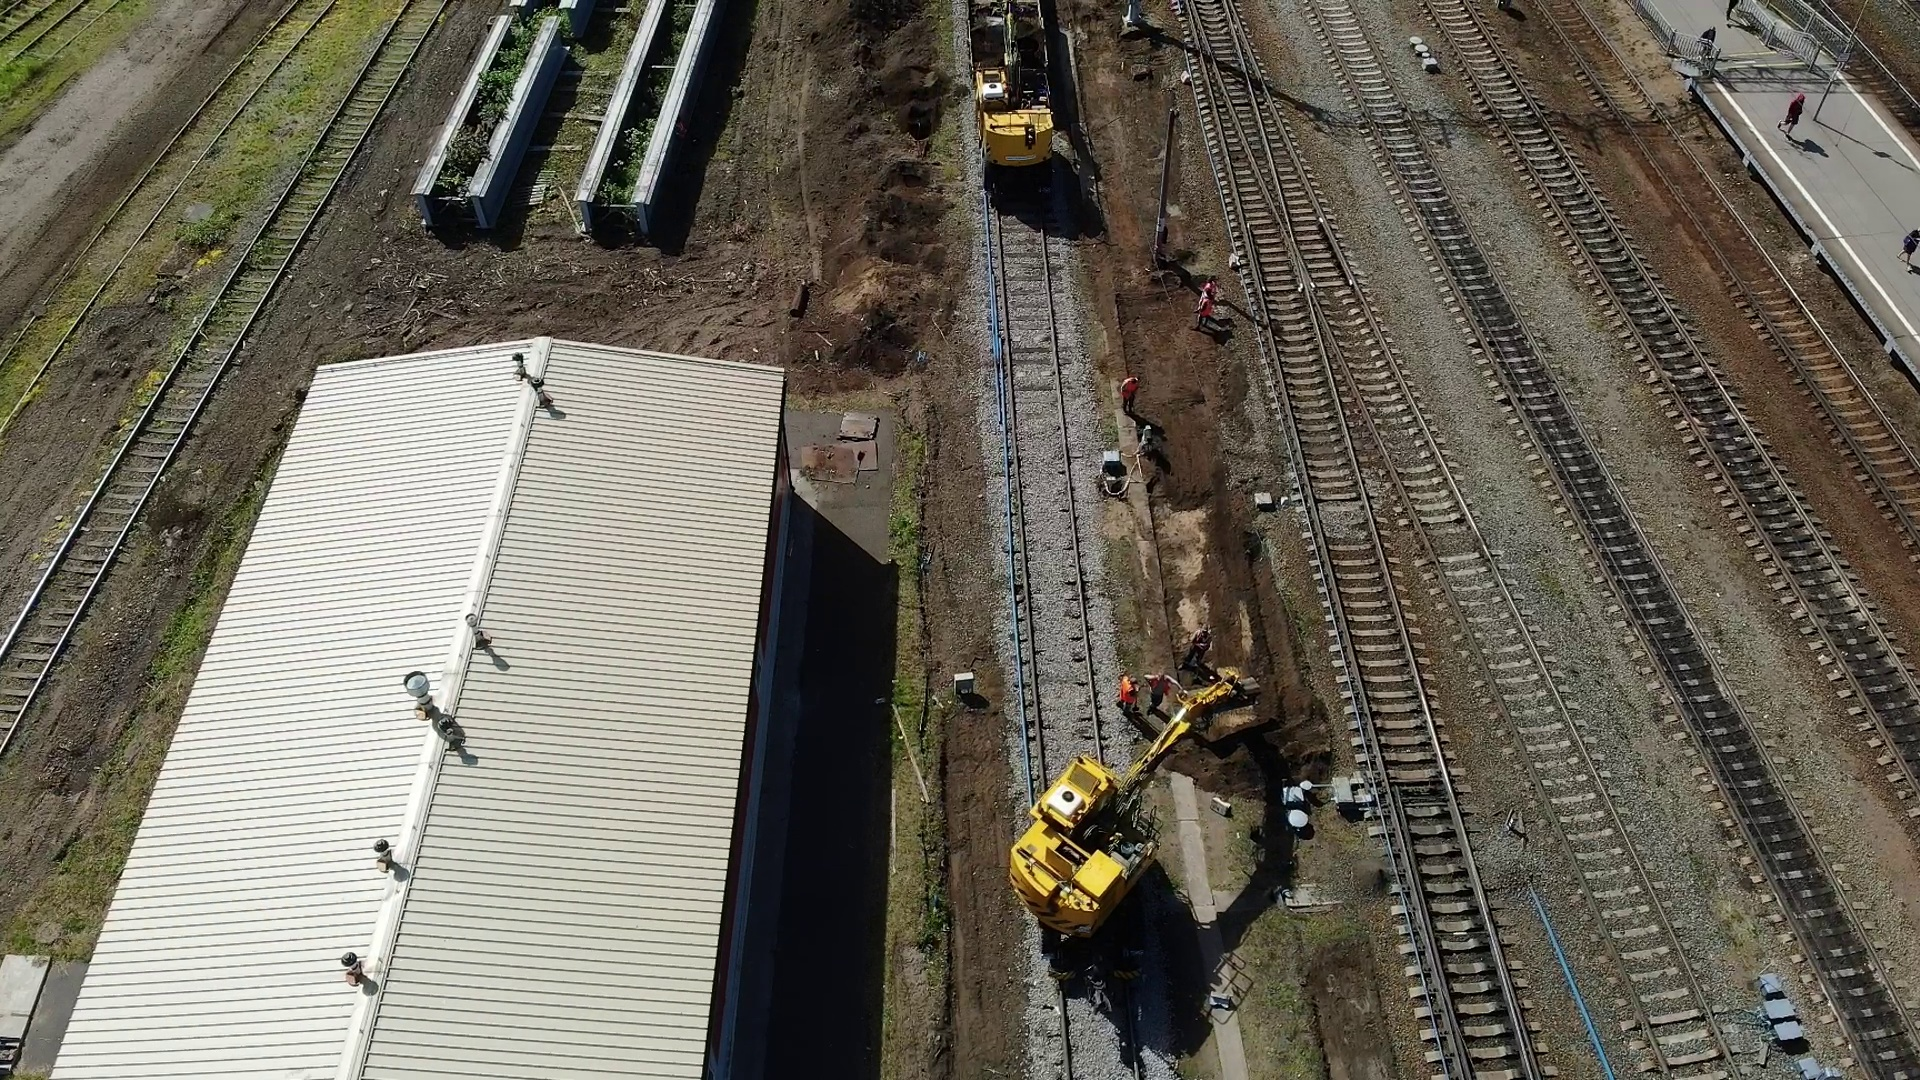kjtv: (1006, 716, 1174, 939), (971, 9, 1067, 179)
